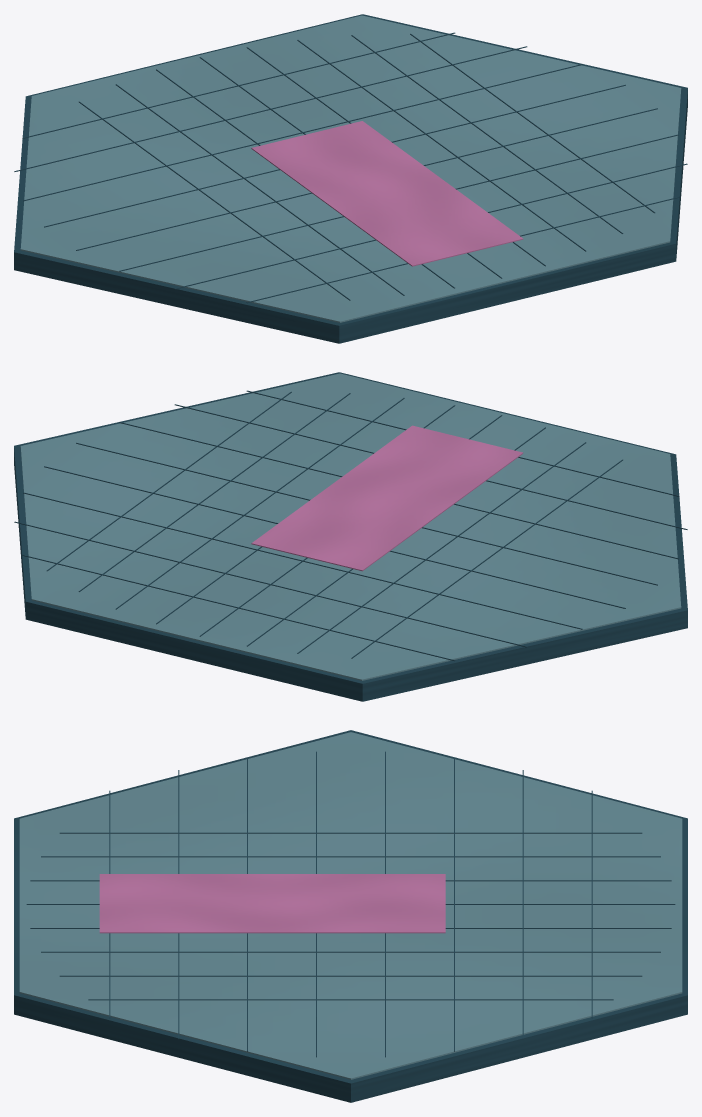
File: atlas100-s061-a07.lod1.glb
3 views of the same model, one above another, from view 1: azimuth 30°, elevation 25°; view 2: azimuth 150°, elevation 25°; view 3: azimuth 270°, elevation 25° (orthographic). The views are drawn at different scales.
Parts seen in each view (by area): view 1: atlas100-s061-a07:part-001, atlas100-s061-a07:part-000, atlas100-s061-a07:part-021, atlas100-s061-a07:part-015, atlas100-s061-a07:part-014, atlas100-s061-a07:part-016, atlas100-s061-a07:part-017, atlas100-s061-a07:part-018, atlas100-s061-a07:part-013, atlas100-s061-a07:part-019, atlas100-s061-a07:part-009, atlas100-s061-a07:part-005 (+4 smaller); view 2: atlas100-s061-a07:part-001, atlas100-s061-a07:part-000, atlas100-s061-a07:part-021, atlas100-s061-a07:part-015, atlas100-s061-a07:part-014, atlas100-s061-a07:part-017, atlas100-s061-a07:part-016, atlas100-s061-a07:part-018, atlas100-s061-a07:part-013, atlas100-s061-a07:part-019, atlas100-s061-a07:part-009, atlas100-s061-a07:part-005 (+4 smaller); view 3: atlas100-s061-a07:part-001, atlas100-s061-a07:part-021, atlas100-s061-a07:part-000, atlas100-s061-a07:part-009, atlas100-s061-a07:part-005, atlas100-s061-a07:part-004, atlas100-s061-a07:part-010, atlas100-s061-a07:part-011, atlas100-s061-a07:part-006.
Part boxes in pixels (x1,y1,x2,y2): atlas100-s061-a07:part-001: (20,15,681,322); atlas100-s061-a07:part-000: (14,14,687,343); atlas100-s061-a07:part-021: (251,121,523,266); atlas100-s061-a07:part-015: (23,64,582,201); atlas100-s061-a07:part-014: (14,46,527,171); atlas100-s061-a07:part-016: (44,84,625,227); atlas100-s061-a07:part-017: (76,108,657,250); atlas100-s061-a07:part-018: (119,134,678,271); atlas100-s061-a07:part-013: (22,32,455,138); atlas100-s061-a07:part-019: (175,163,687,289); atlas100-s061-a07:part-009: (297,40,586,251); atlas100-s061-a07:part-005: (115,84,404,295); atlas100-s061-a07:part-001: (20,373,681,680); atlas100-s061-a07:part-000: (14,372,687,701); atlas100-s061-a07:part-021: (251,425,523,571); atlas100-s061-a07:part-015: (23,492,582,629); atlas100-s061-a07:part-014: (14,521,526,647); atlas100-s061-a07:part-017: (76,442,657,585); atlas100-s061-a07:part-016: (44,466,625,608); atlas100-s061-a07:part-018: (119,422,678,559); atlas100-s061-a07:part-013: (22,555,455,661); atlas100-s061-a07:part-019: (174,404,687,529); atlas100-s061-a07:part-009: (115,398,404,609); atlas100-s061-a07:part-005: (297,442,586,653); atlas100-s061-a07:part-001: (19,732,682,1079); atlas100-s061-a07:part-021: (99,874,445,933); atlas100-s061-a07:part-000: (14,730,687,1102); atlas100-s061-a07:part-009: (41,951,660,952); atlas100-s061-a07:part-005: (41,856,660,857); atlas100-s061-a07:part-004: (59,832,642,833); atlas100-s061-a07:part-010: (59,975,642,976); atlas100-s061-a07:part-011: (88,999,613,1000); atlas100-s061-a07:part-006: (30,880,671,881).
Bounding box in the file's own units: 13.35 × 0.404 × 10.76.
Materials: 3 (3 with a texture image).
